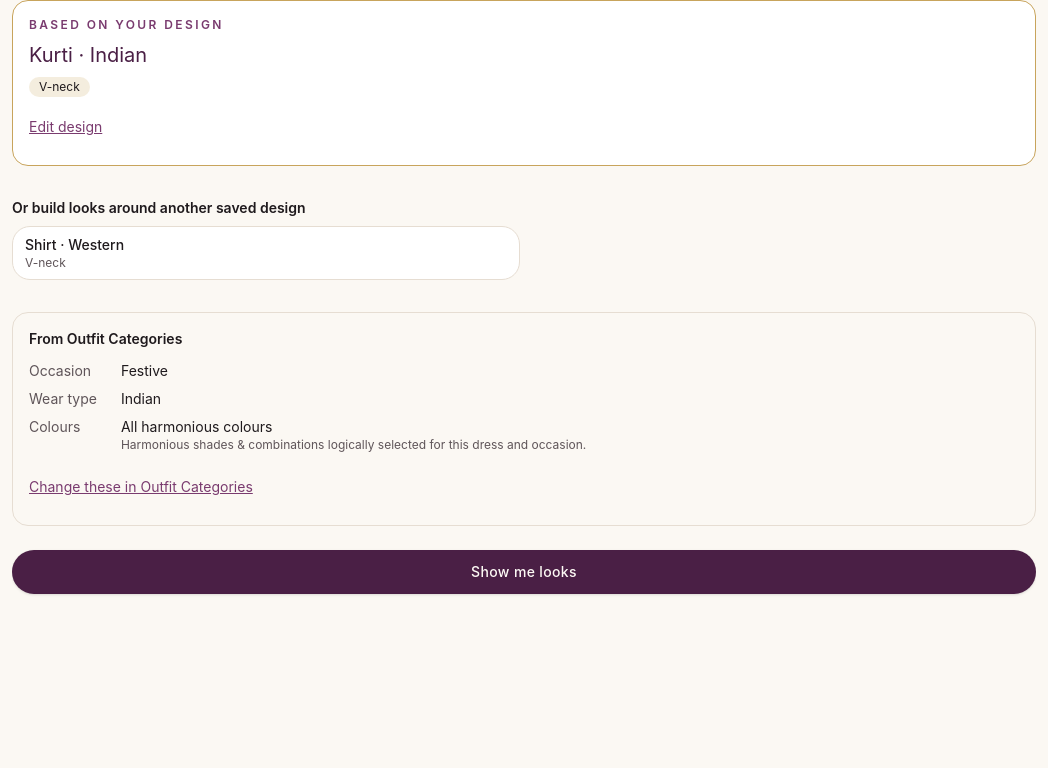
Test: Discover My Style request (built from Outfit Categories) › sends the design’s occasion tag, outfit category and the suggested colours
Check: the text "Festive" is shown, box [121, 362, 168, 379]
Check: the text "Indian" is shown, box [121, 390, 161, 407]
Step 1. Click the button "Show me looks" → [524, 572], box [12, 550, 1036, 594]
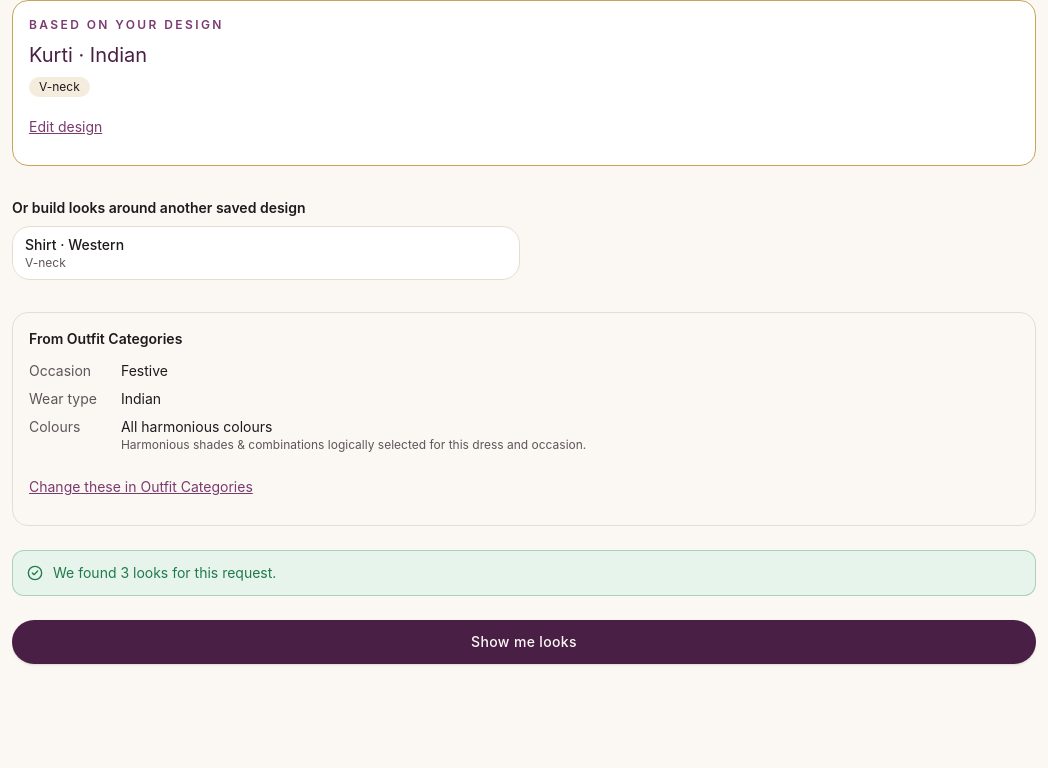
Check: the message shows "We found 3 looks", box [53, 564, 276, 581]
